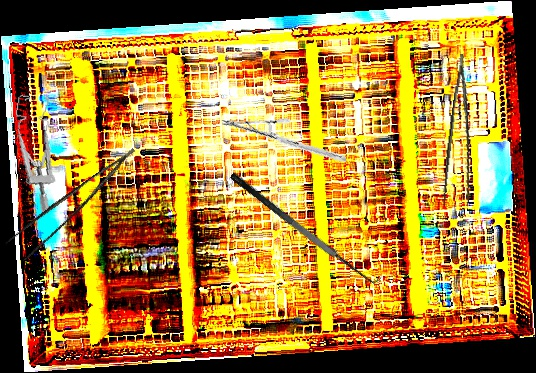Needle Holder: (221, 95, 347, 186)
Spatula Surgical: (228, 159, 385, 294)
Speculum: (0, 91, 69, 214)
Tissue Forceps: (1, 147, 151, 265), (438, 53, 489, 214)
